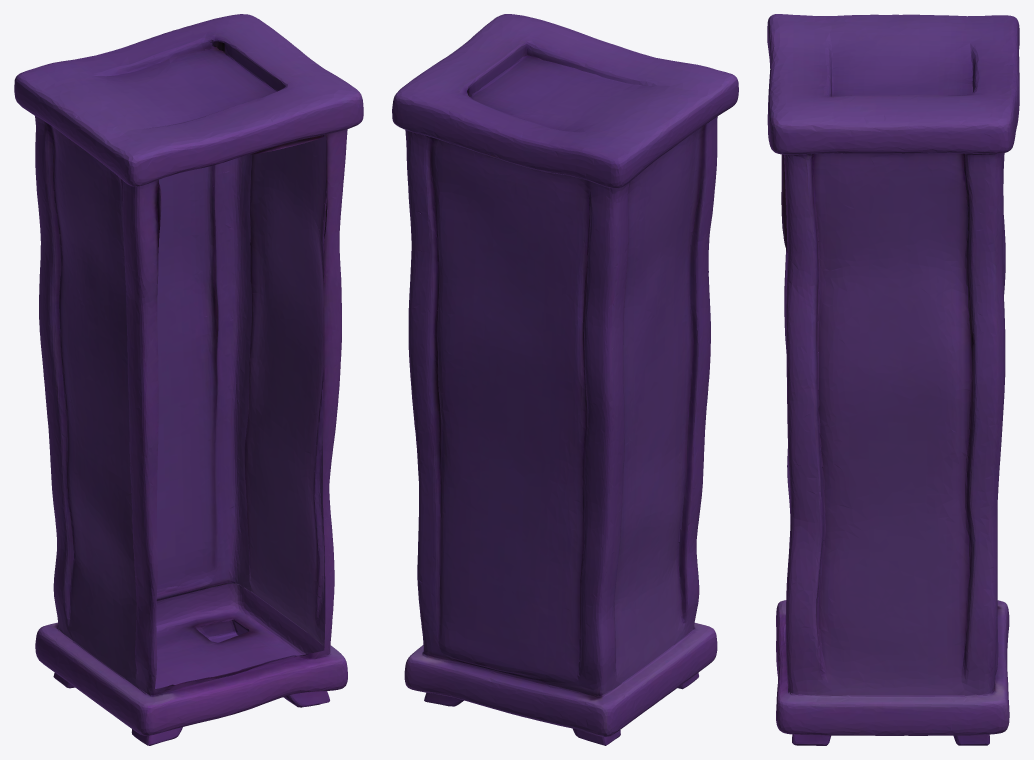
File: body.glb
3 views of the same model, side by side, from view 1: azimuth 30°, elevation 25°; view 2: azimuth 150°, elevation 25°; view 3: azimuth 270°, elevation 25° (orthographic). The views are drawn at different scales.
Visible parts, largest first — view 1: source_surface_0; view 2: source_surface_0; view 3: source_surface_0.
Boxes of the visible parts, bbox=[...] form: source_surface_0: bbox=[14, 14, 363, 745]; source_surface_0: bbox=[392, 14, 738, 745]; source_surface_0: bbox=[767, 14, 1019, 745].
Size of the model in its own units: 0.2452 by 0.6 by 0.2152.
Materials: 1 (1 with a texture image).
